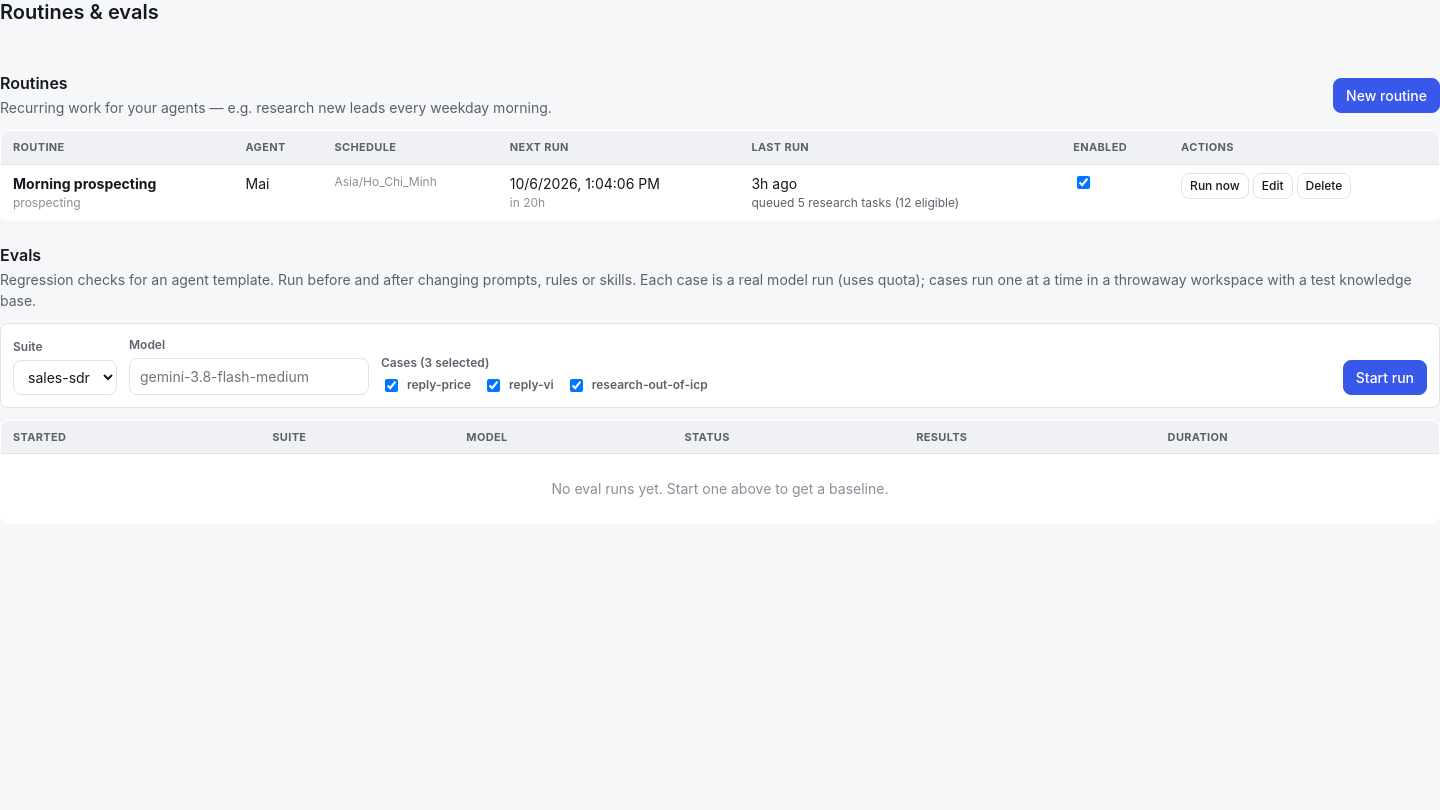
Scenario: RoutinesPage › starts an eval run for the chosen cases and opens it
Expected: the checkbox labelled "reply-price" is shown, [385,378,398,392]
Type "gemini-3.8-flash-high" into the field labelled "Model". click: (249, 376)
box: [129,358,369,394]
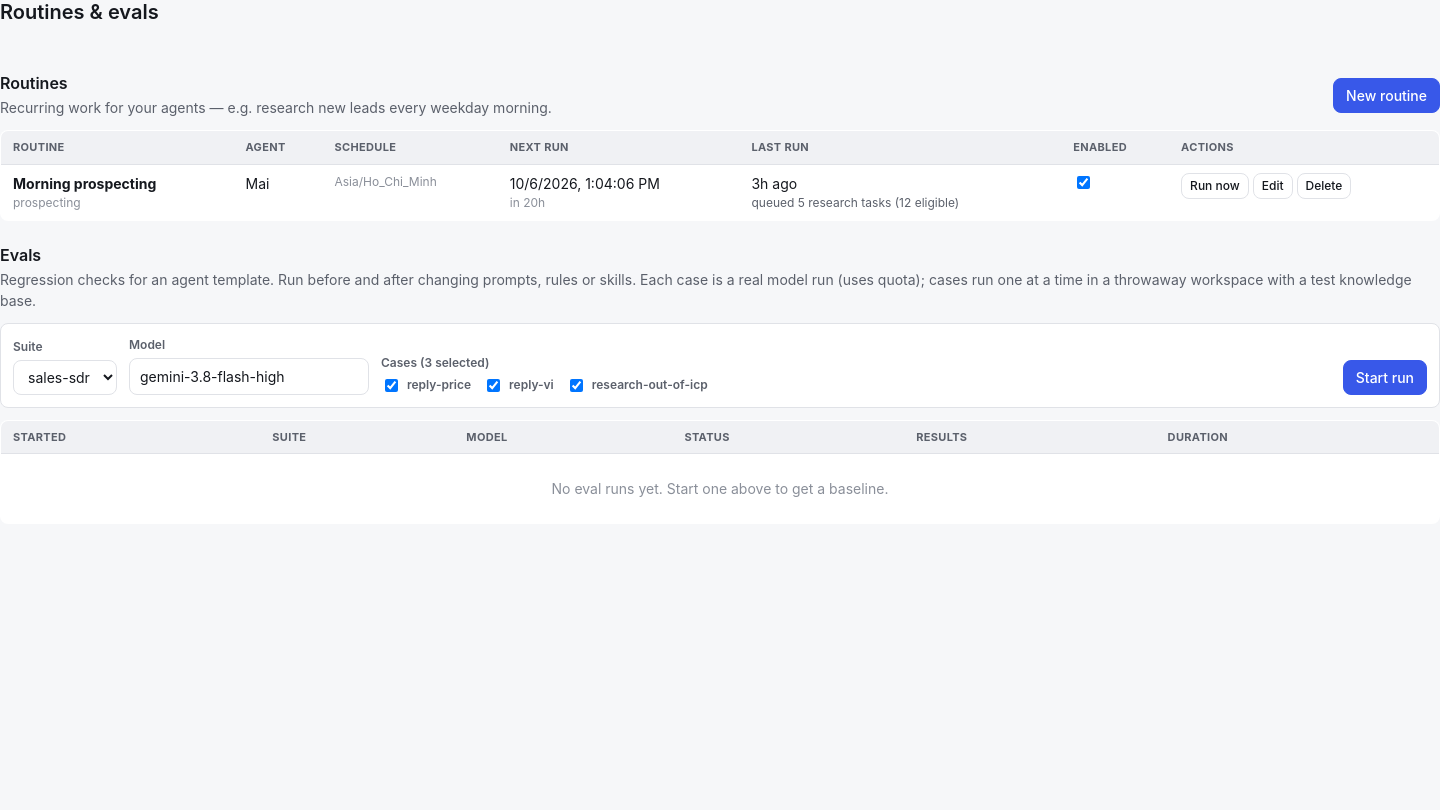
Click the checkbox labelled "research-out-of-icp". click: (576, 385)
box: [570,378,583,392]
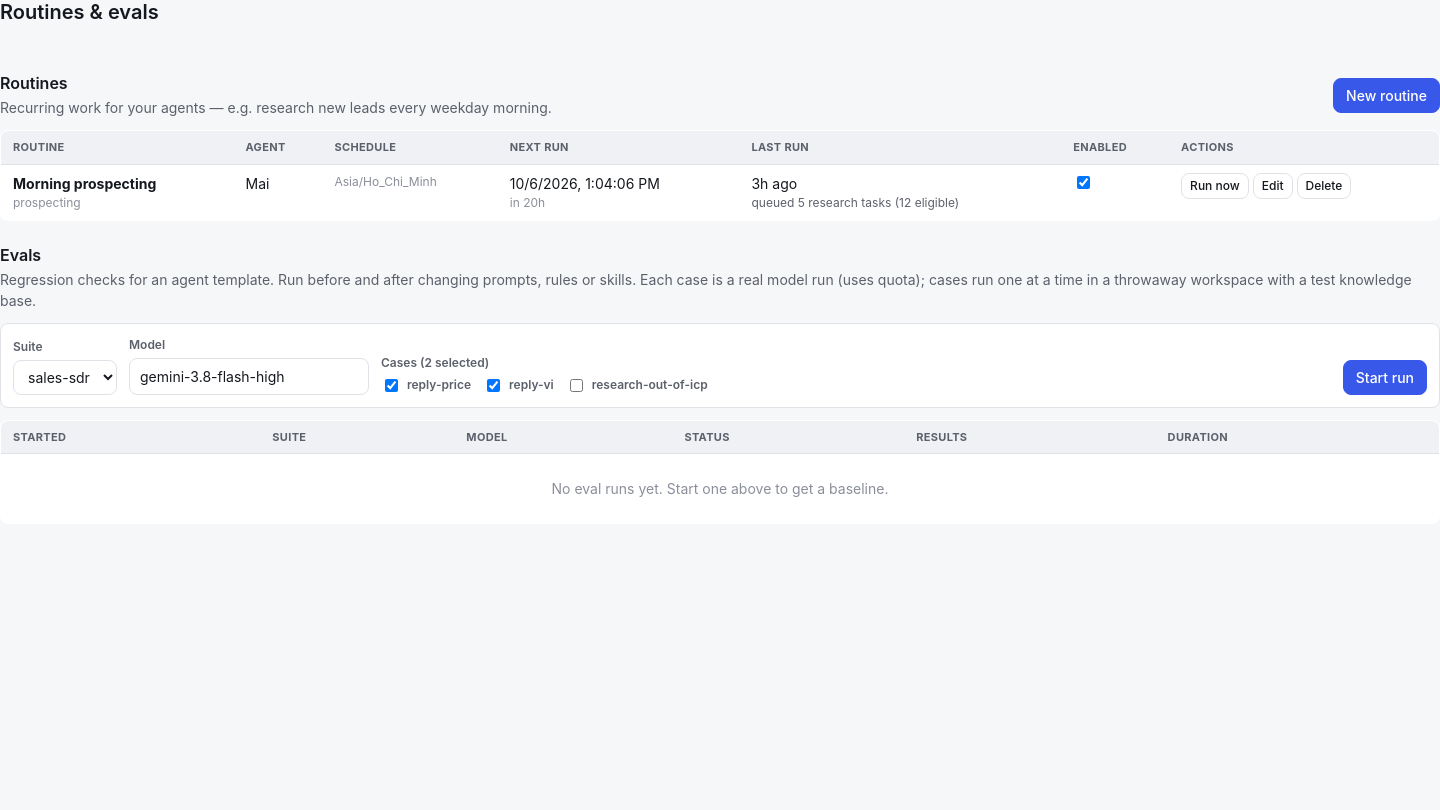
Click the button "Start run". click: (1385, 377)
box: [1343,360,1427,394]
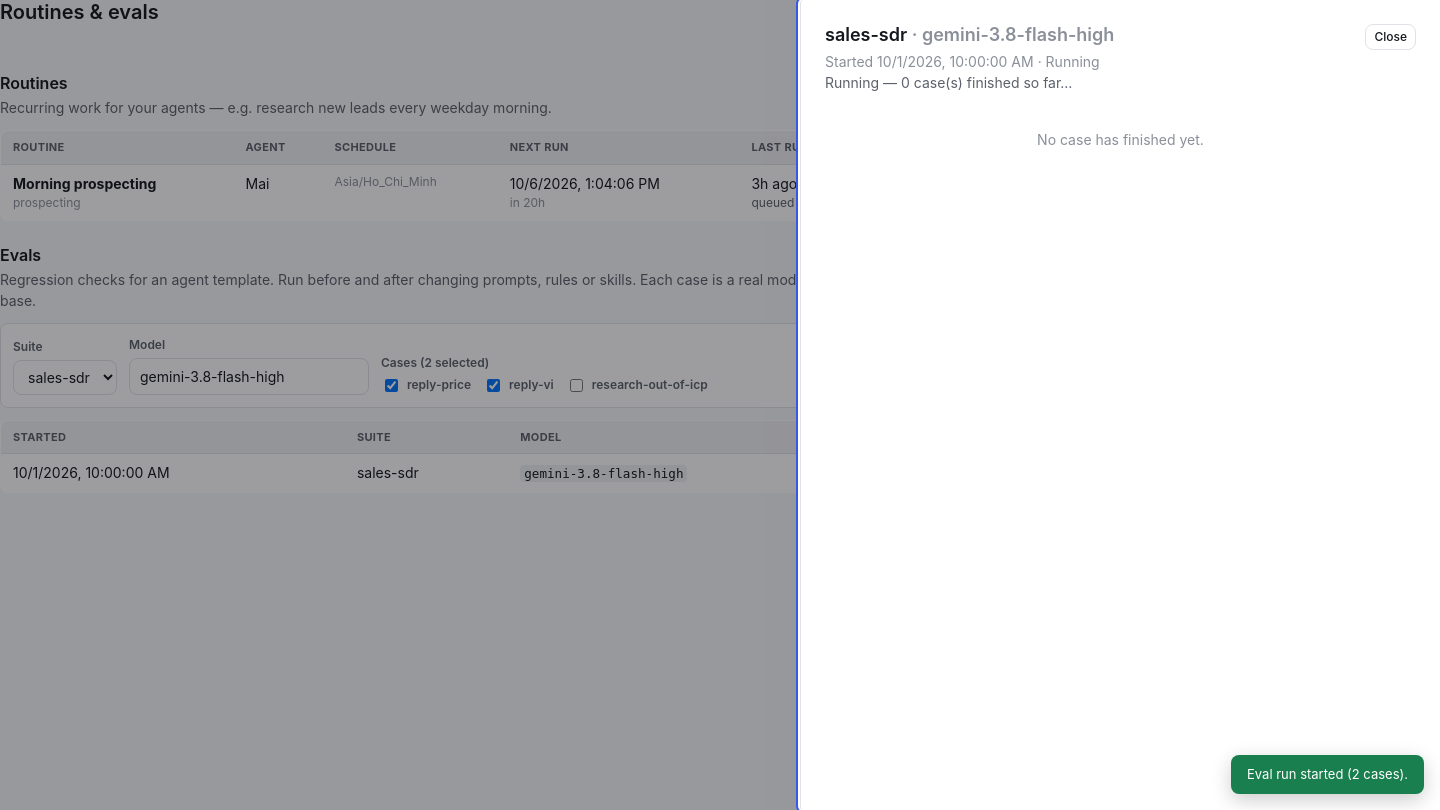
Expected: the text "Running — 0 case(s) finished so far…" is shown, [825,74,1072,90]
